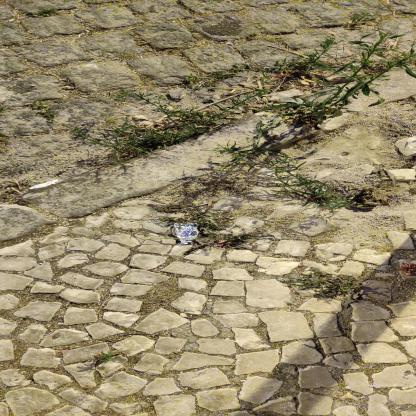plastik: (175, 224, 201, 246)
